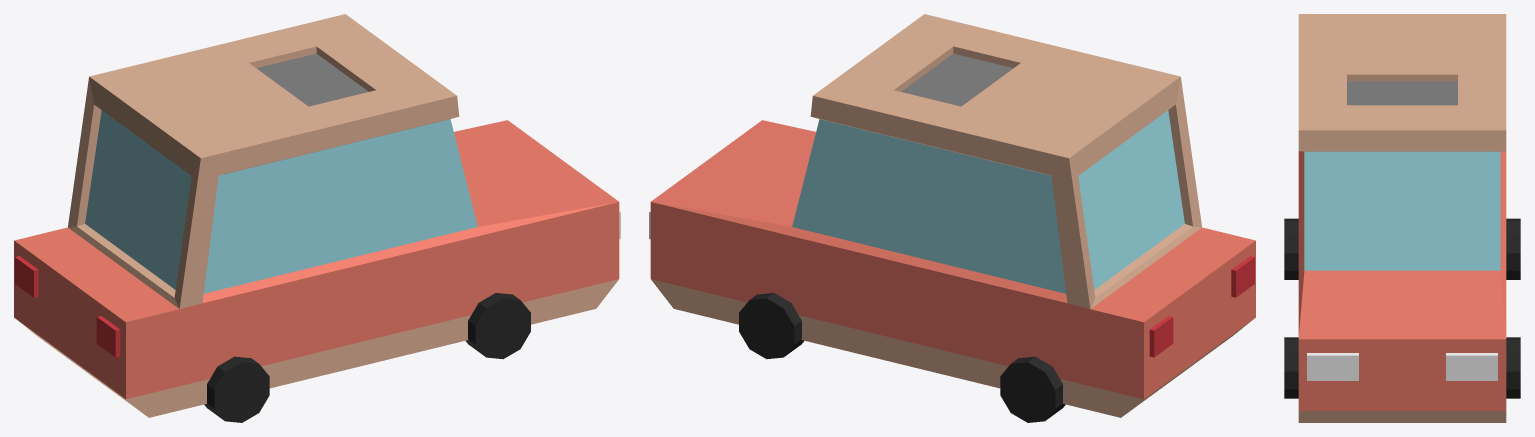
The model's file is Car 2.fbx.
3 views of the same model, side by side, from view 1: azimuth 30°, elevation 25°; view 2: azimuth 150°, elevation 25°; view 3: azimuth 270°, elevation 25° (orthographic). The views are drawn at different scales.
Visible parts, largest first — view 1: Car_2; view 2: Car_2; view 3: Car_2.
Part boxes in pixels (<box>): Car_2: <box>14,14,620,422</box>; Car_2: <box>649,14,1255,422</box>; Car_2: <box>1284,14,1520,422</box>.
Bounding box in the file's own units: 521 × 264 × 227.
